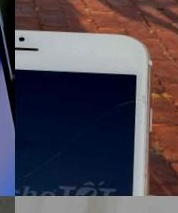screen_defect: (0, 16, 178, 178)
